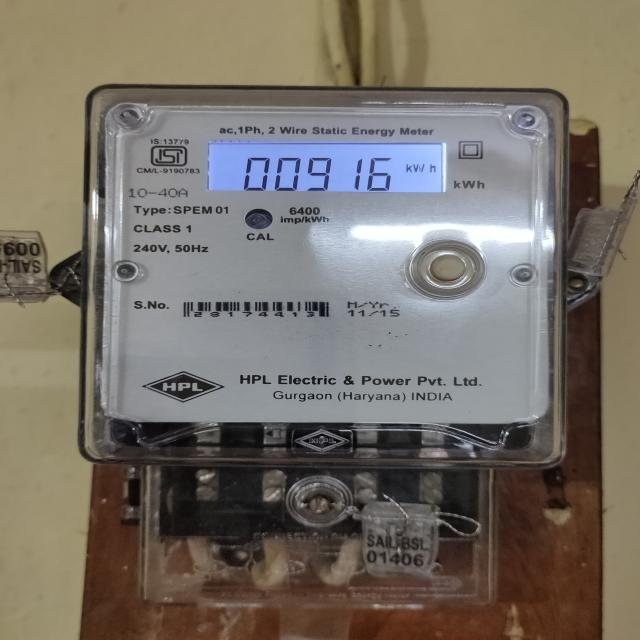display: (208, 140, 447, 198)
